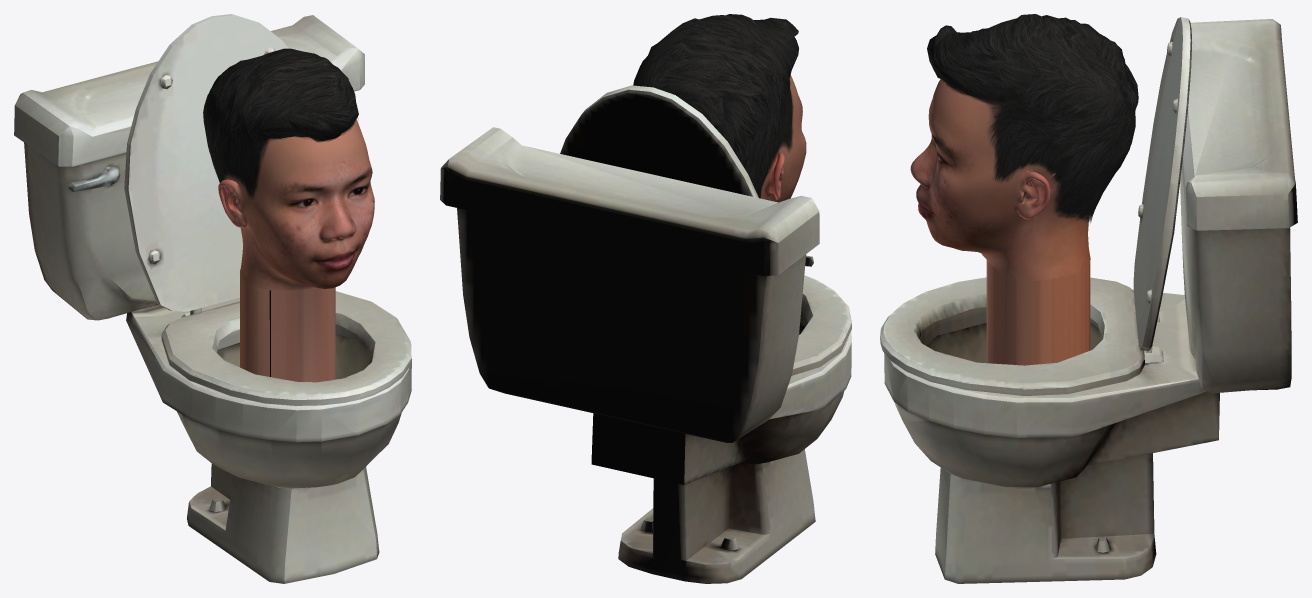
3 views of the same model, side by side, from view 1: azimuth 30°, elevation 25°; view 2: azimuth 150°, elevation 25°; view 3: azimuth 270°, elevation 25° (orthographic). The views are drawn at different scales.
Parts seen in each view (by area): view 1: node_id30, avaturn_body, avaturn_hair_0; view 2: node_id30, avaturn_hair_0, avaturn_body; view 3: node_id30, avaturn_body, avaturn_hair_0.
Boxes of the visible parts, x1=… form: node_id30: x1=14, y1=14, x2=411, y2=583; avaturn_body: x1=218, y1=119, x2=374, y2=382; avaturn_hair_0: x1=203, y1=48, x2=358, y2=199; node_id30: x1=440, y1=85, x2=851, y2=583; avaturn_hair_0: x1=633, y1=14, x2=798, y2=198; avaturn_body: x1=760, y1=75, x2=806, y2=202; node_id30: x1=880, y1=17, x2=1297, y2=583; avaturn_body: x1=910, y1=79, x2=1090, y2=365; avaturn_hair_0: x1=927, y1=14, x2=1138, y2=223.
Bounding box in the file's own units: 1.08 × 1.56 × 1.11.
6 materials, 6 textured.
